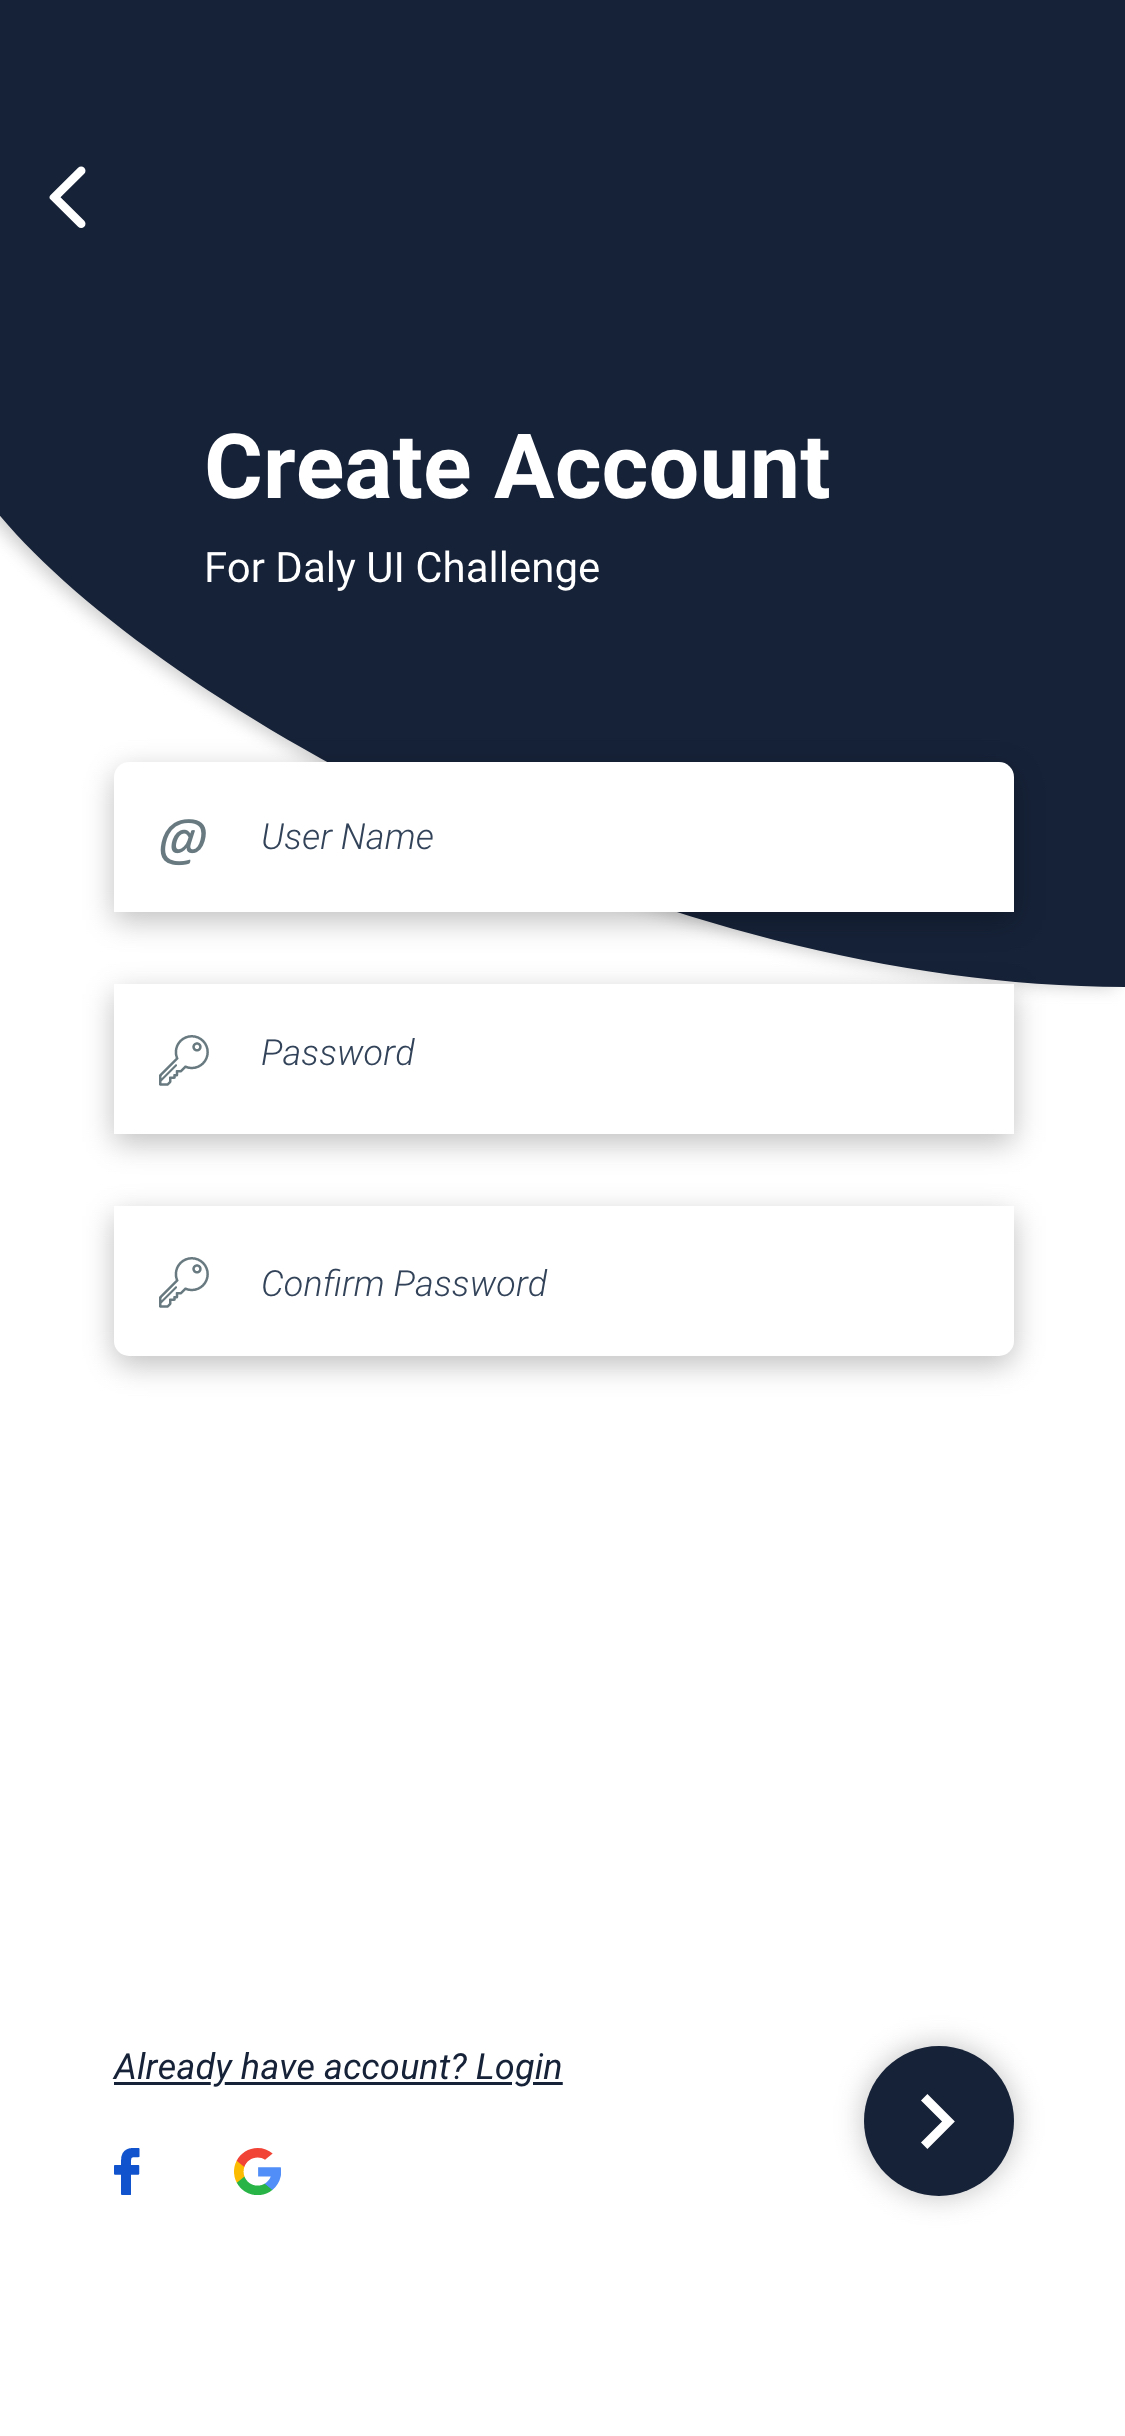EditText: (113, 983, 1015, 1136), (113, 761, 1015, 913), (113, 1206, 1015, 1356)
Icon: (862, 2044, 1015, 2197), (158, 1035, 211, 1087), (50, 166, 89, 230), (235, 2147, 283, 2197), (162, 819, 208, 867), (113, 2147, 141, 2197)
Image: (158, 1257, 210, 1310)
Text: (207, 432, 831, 502), (207, 548, 601, 593), (113, 2051, 564, 2088), (263, 1269, 549, 1297), (263, 1036, 416, 1067), (263, 823, 434, 851)
